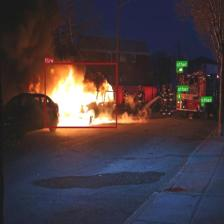fire: (44, 62, 116, 128)
